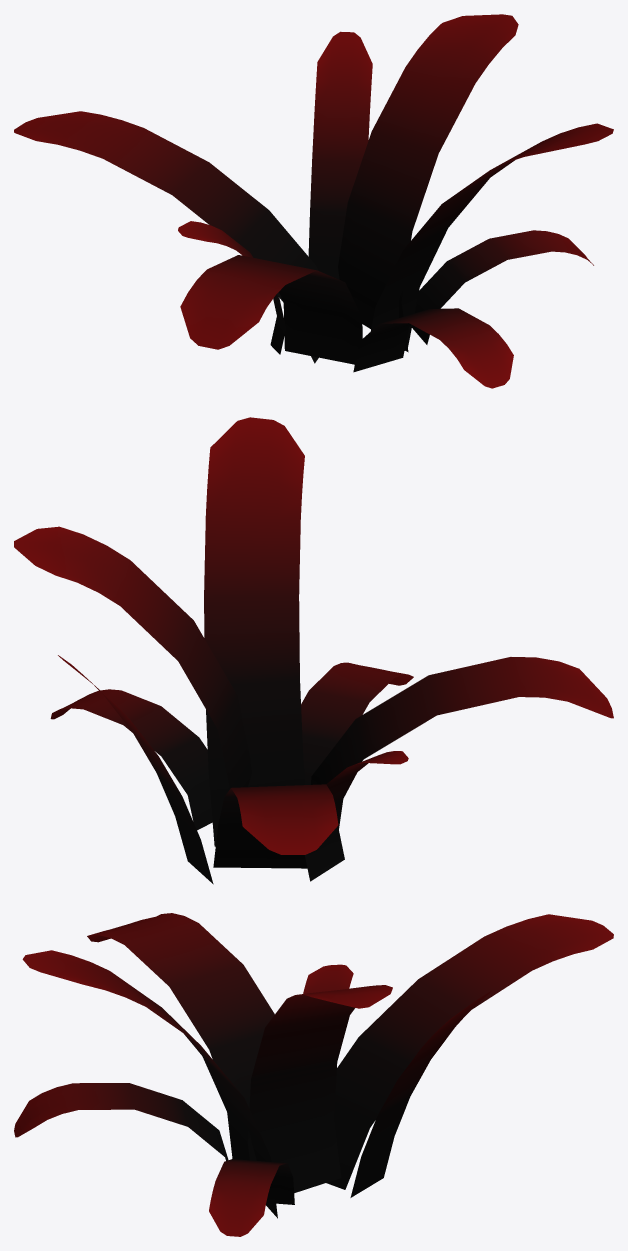
The model's file is grass 1.FBX.
3 views of the same model, one above another, from view 1: azimuth 30°, elevation 25°; view 2: azimuth 150°, elevation 25°; view 3: azimuth 270°, elevation 25° (orthographic). The views are drawn at different scales.
Visible parts, largest first — view 1: Plane001; view 2: Plane001; view 3: Plane001.
Part boxes in pixels (x1=…): Plane001: x1=14, y1=14, x2=613, y2=388; Plane001: x1=14, y1=417, x2=613, y2=884; Plane001: x1=14, y1=913, x2=613, y2=1236.
Bounding box in the file's own units: 137 × 81.57 × 150.
